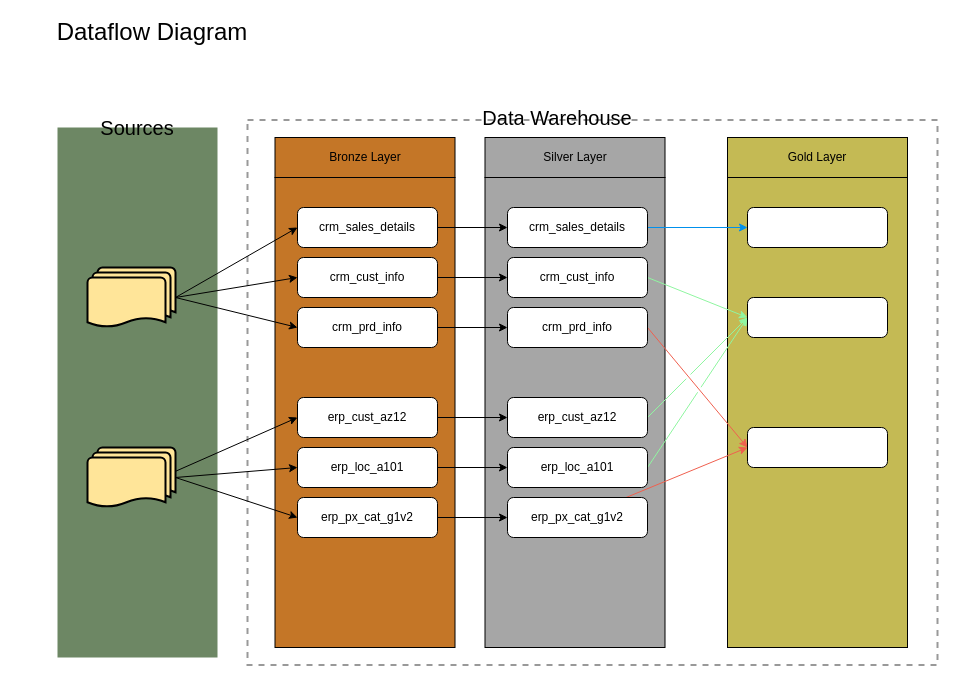
The diagram is 955 pixels wide and 683 high, and some of its shapes have lost their labels. Here are the shapes that lost their labels. From the top down, the centre of each, then its label:
the point at 817,227: fact_sales
the point at 131,297: CRM
the point at 817,317: dim_customers
the point at 817,447: dim_products
the point at 131,477: ERP
